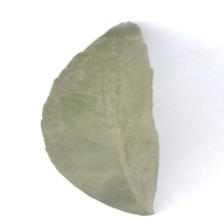healthy: (37, 22, 162, 215)
